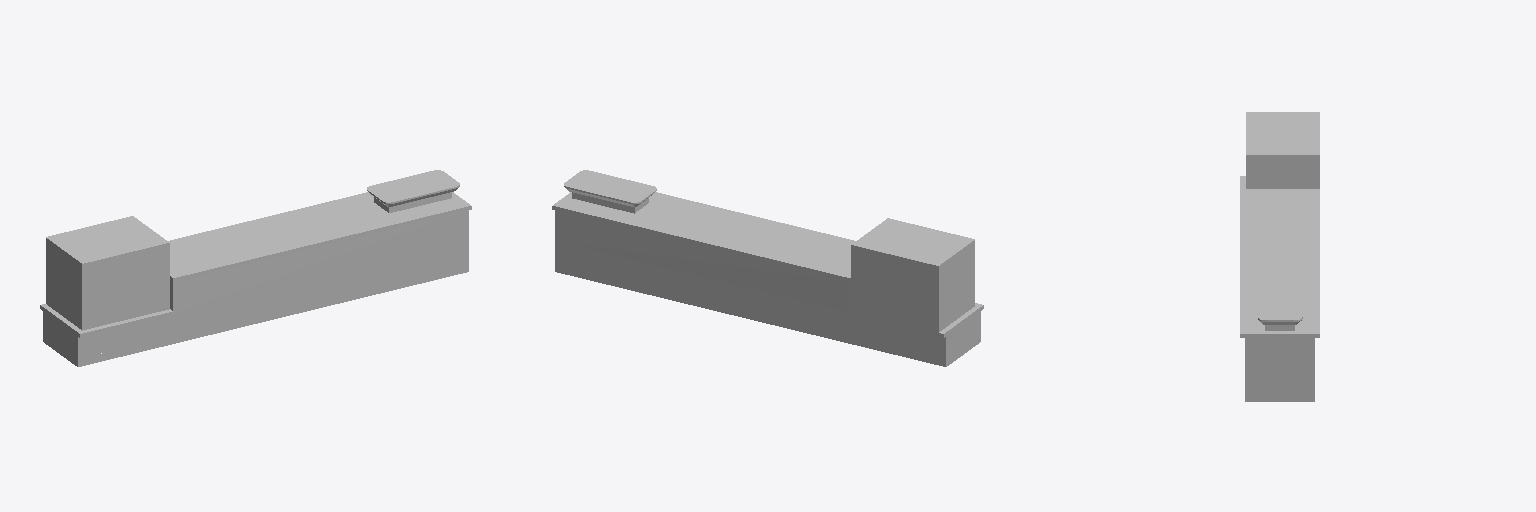
File: coffee_bar.obj
3 views of the same model, side by side, from view 1: azimuth 30°, elevation 25°; view 2: azimuth 150°, elevation 25°; view 3: azimuth 270°, elevation 25° (orthographic).
Bounding box in the file's own units: 5.11 × 1.27 × 0.901.